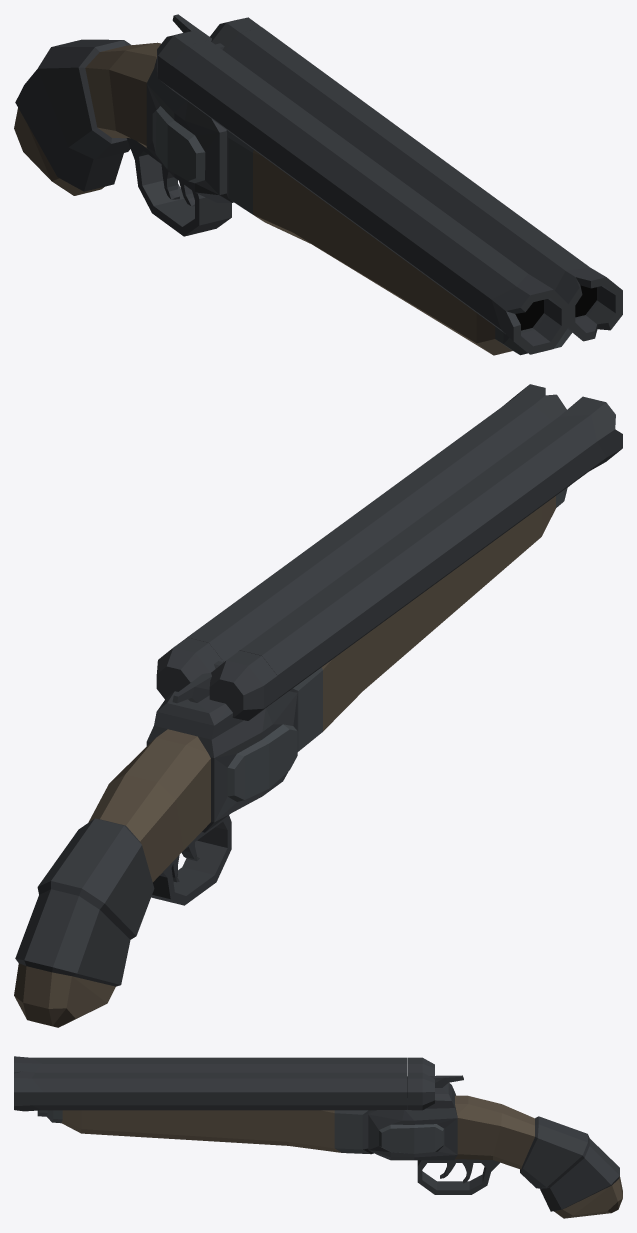
File: SM_Wep_DoubleBarrel_01.fbx
The picture shows the model from 3 angles, top to bottom: view 1: azimuth 30°, elevation 25°; view 2: azimuth 150°, elevation 25°; view 3: azimuth 270°, elevation 25°; orthographic projection. The views are drawn at different scales.
Parts seen in each view (by area): view 1: SM_Wep_DoubleBarrel_Barrel_01, SM_Wep_DoubleBarrel_01; view 2: SM_Wep_DoubleBarrel_Barrel_01, SM_Wep_DoubleBarrel_01; view 3: SM_Wep_DoubleBarrel_Barrel_01, SM_Wep_DoubleBarrel_01.
Part boxes in pixels (left/top/right/bottom): SM_Wep_DoubleBarrel_Barrel_01: left=171, top=27, right=622, bottom=355; SM_Wep_DoubleBarrel_01: left=14, top=14, right=261, bottom=236; SM_Wep_DoubleBarrel_Barrel_01: left=187, top=384, right=622, bottom=751; SM_Wep_DoubleBarrel_01: left=14, top=637, right=297, bottom=1027; SM_Wep_DoubleBarrel_Barrel_01: left=14, top=1056, right=406, bottom=1154; SM_Wep_DoubleBarrel_01: left=368, top=1057, right=622, bottom=1218.
Size of the model in its own units: 8.27 by 18.67 by 69.66.
1 material, 1 textured.
